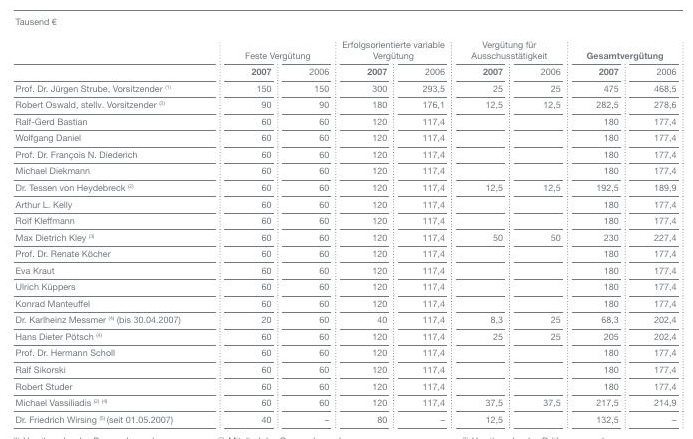table: (0, 0, 693, 439)
